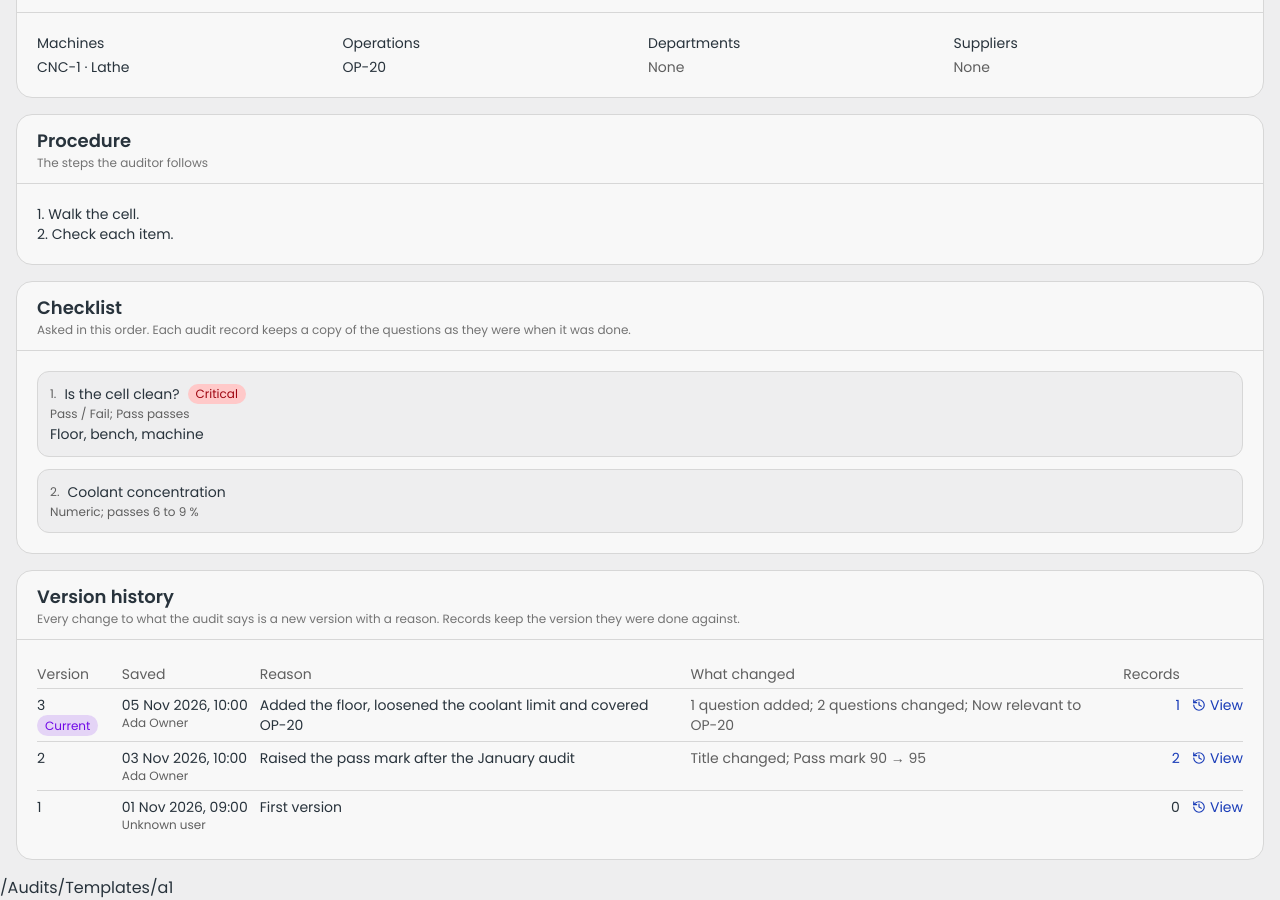
Test case: version history of an audit › opens a version with what it changed from the one before, the audit as it was and the records done against it
(page scrolled)
Click the button with aria-label "View version 3".
click(1217, 705)  # box [1192,695,1243,715]
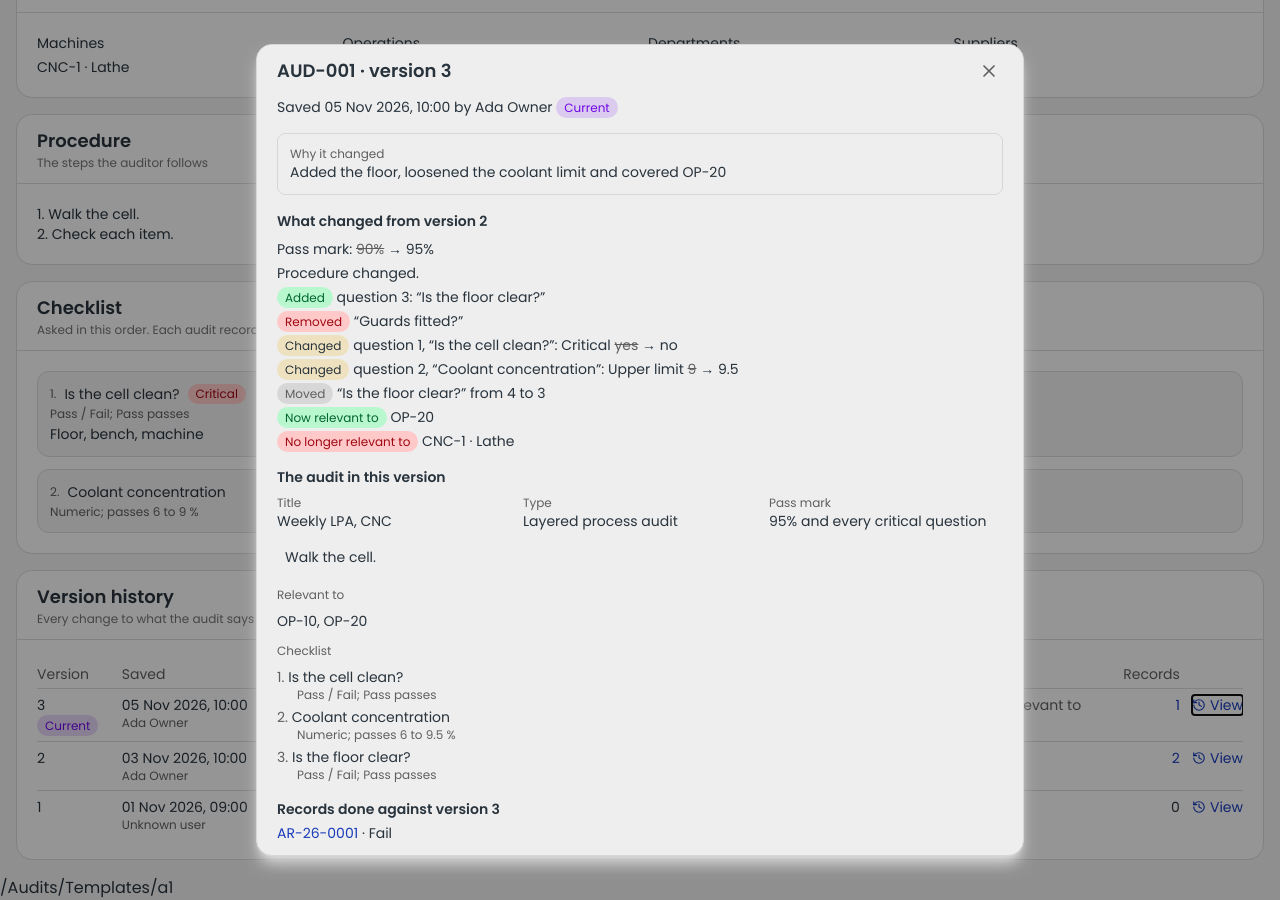
Expected: the text "Added the floor, loosened the coolant limit and covered OP-20" is shown, [290,162,726,182]
Expected: the text "Current" is shown, [556,97,618,118]
Expected: the element named "Changes from version 2" shows "Pass mark: 90% → 95%", [277,211,738,452]
